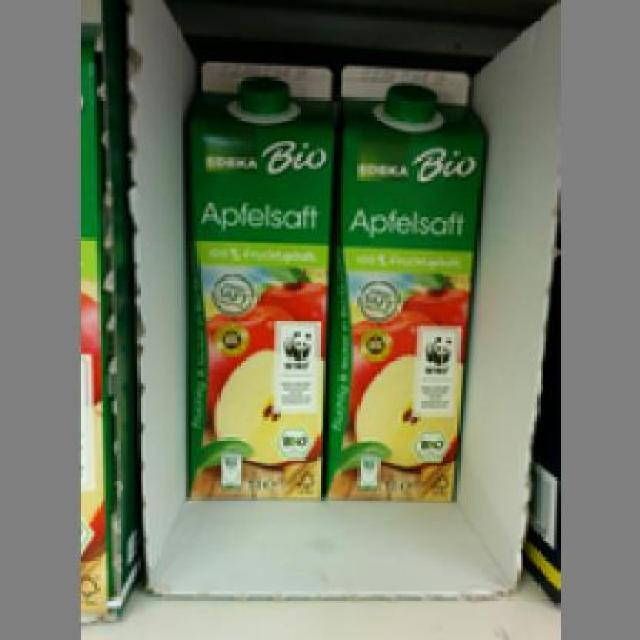Juice: (323, 60, 483, 503), (182, 57, 338, 503)
